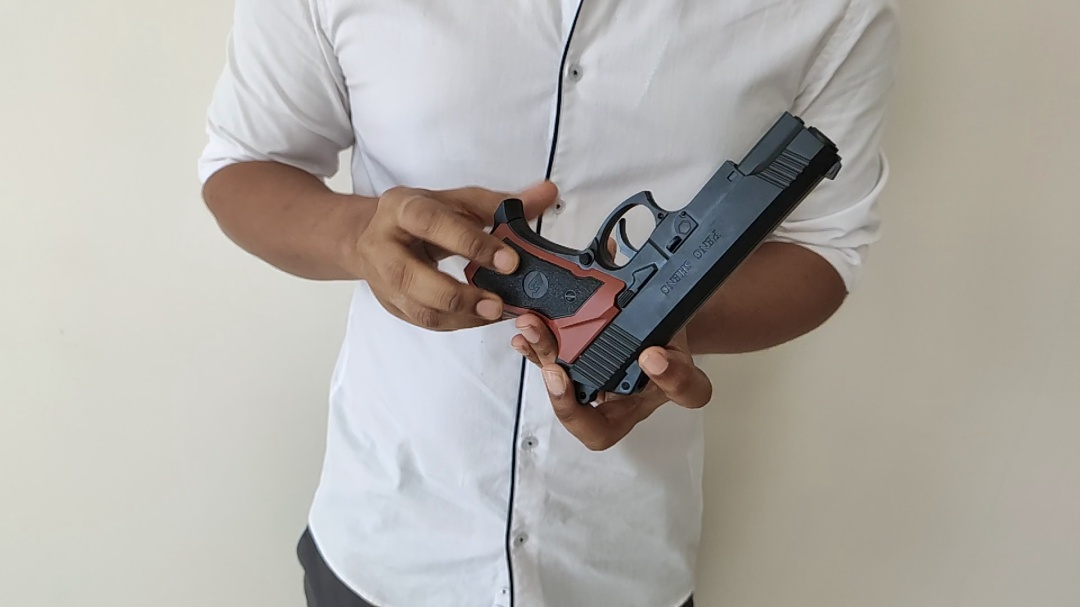gun: (341, 313, 776, 491)
